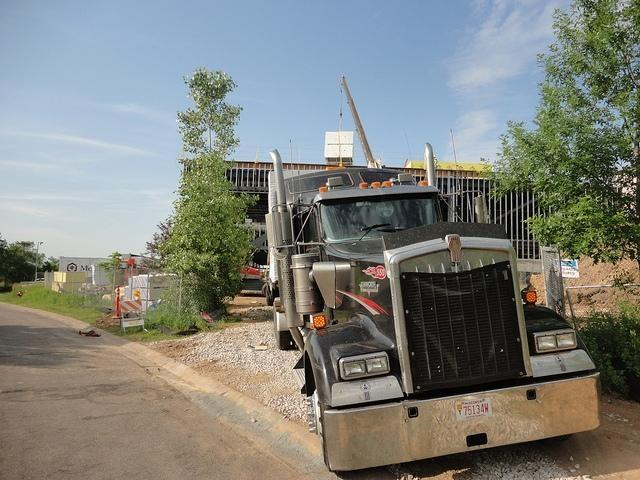car: (240, 264, 262, 280)
truck: (264, 142, 605, 470), (59, 257, 129, 287)
